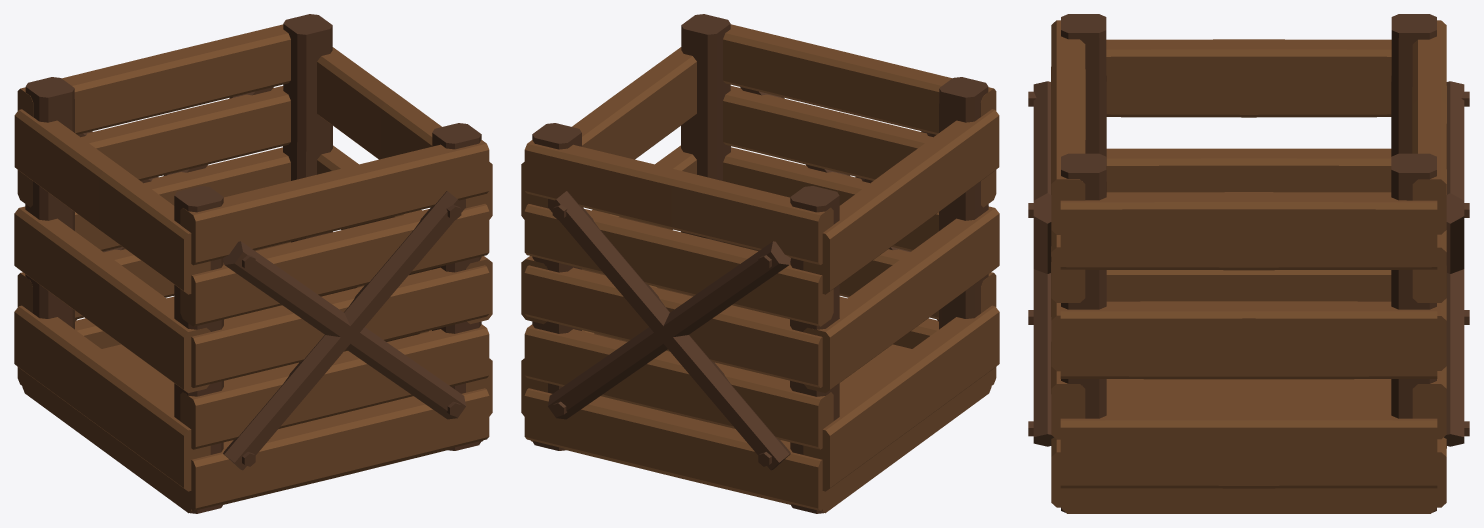
The model's file is prop_crate_wood_a.glb.
3 renders of one model, left to right at view 1: azimuth 30°, elevation 25°; view 2: azimuth 150°, elevation 25°; view 3: azimuth 270°, elevation 25°, orthographic. The views are drawn at different scales.
Parts seen in each view (by area): view 1: crate_back_slat_00, crate_back_brace_a; view 2: crate_back_slat_00, crate_back_brace_a; view 3: crate_back_slat_00, crate_back_brace_a.
Part boxes in pixels (x1,y1,x2,y2): crate_back_slat_00: (14,24,492,513); crate_back_brace_a: (25,14,481,513); crate_back_slat_00: (521,24,999,513); crate_back_brace_a: (532,14,988,513); crate_back_slat_00: (1051,20,1446,513); crate_back_brace_a: (1028,14,1469,512).
Size of the model in its own units: 0.8622 by 0.82 by 0.962.
